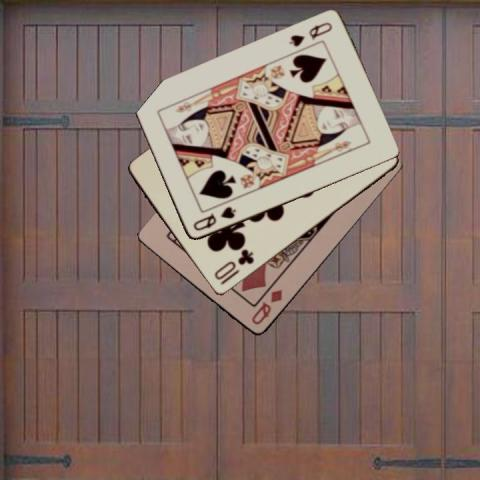10c: (211, 246, 255, 287)
Qd: (248, 286, 284, 326)
Qs: (287, 19, 334, 49), (190, 204, 237, 233)
